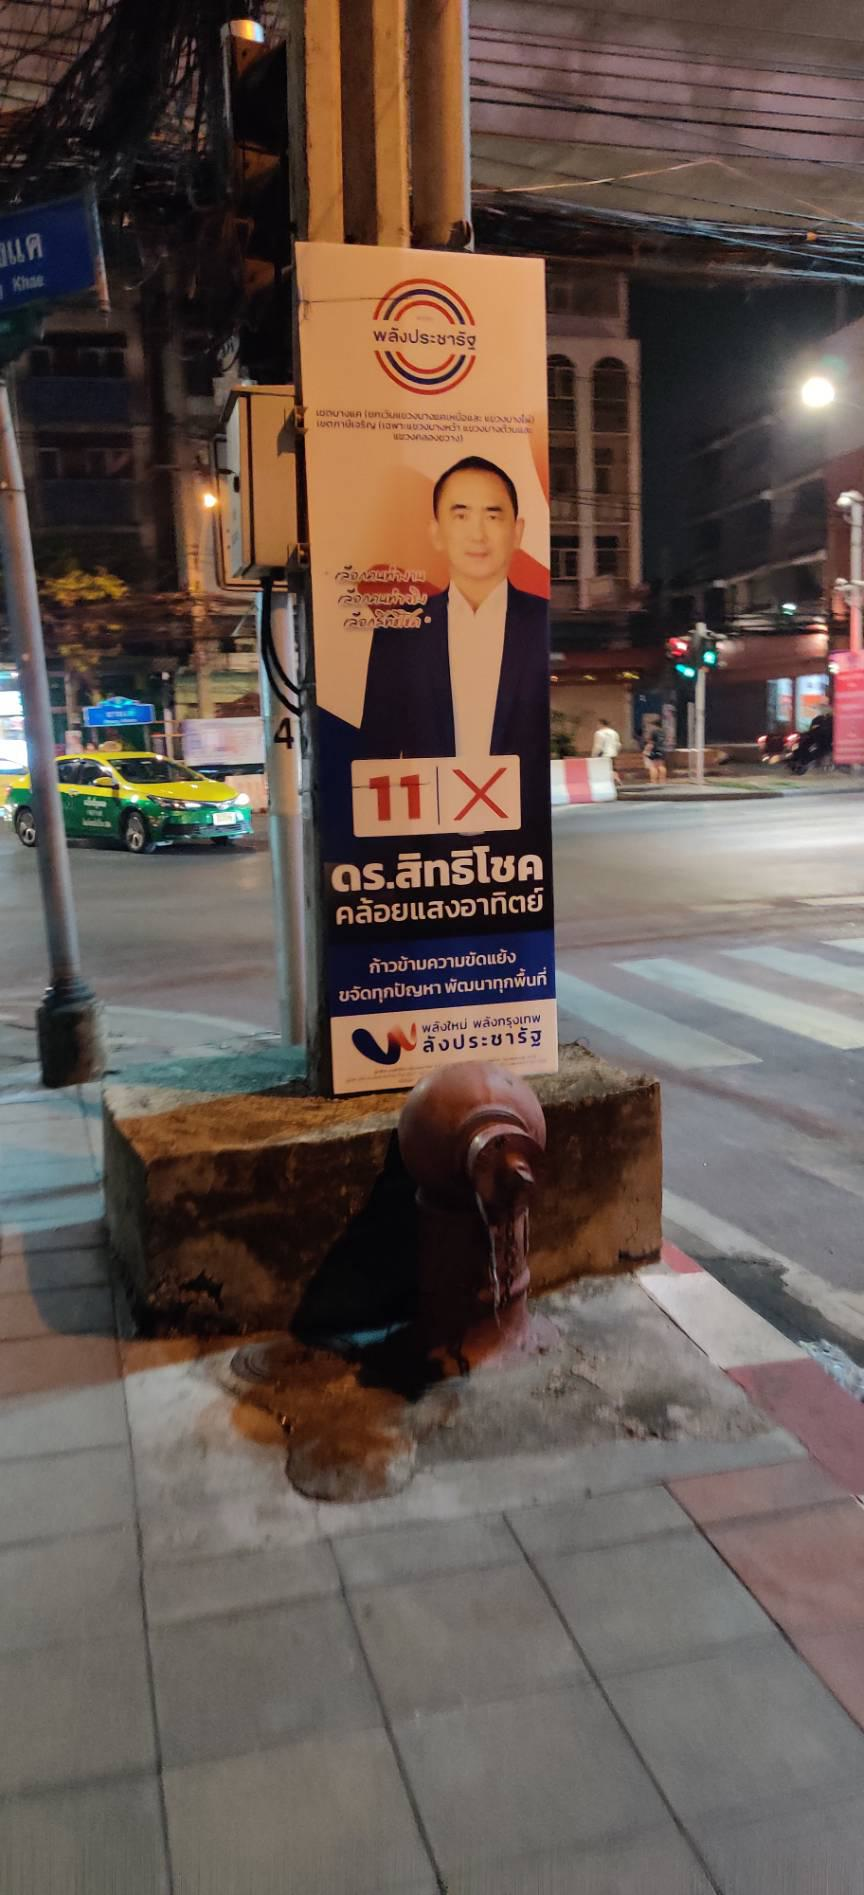Banner: (283, 234, 557, 1086)
